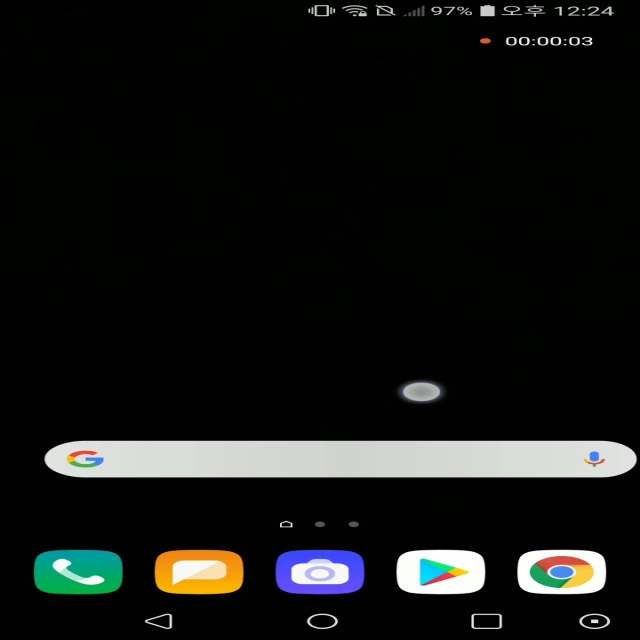Cursor: (399, 381, 443, 403)
